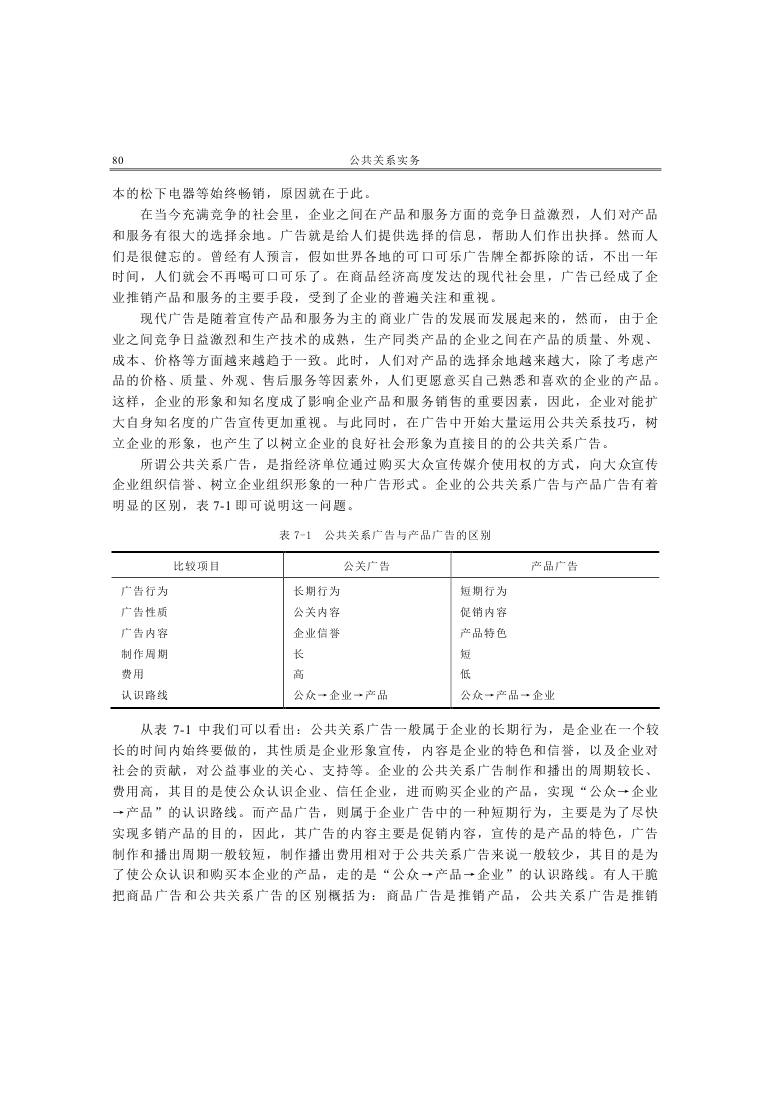table: (110, 551, 660, 709)
